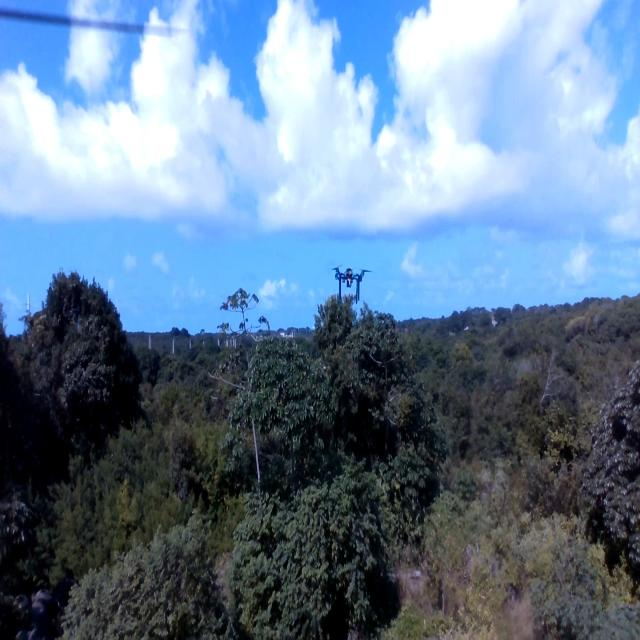-uav-: (328, 254, 374, 306)
